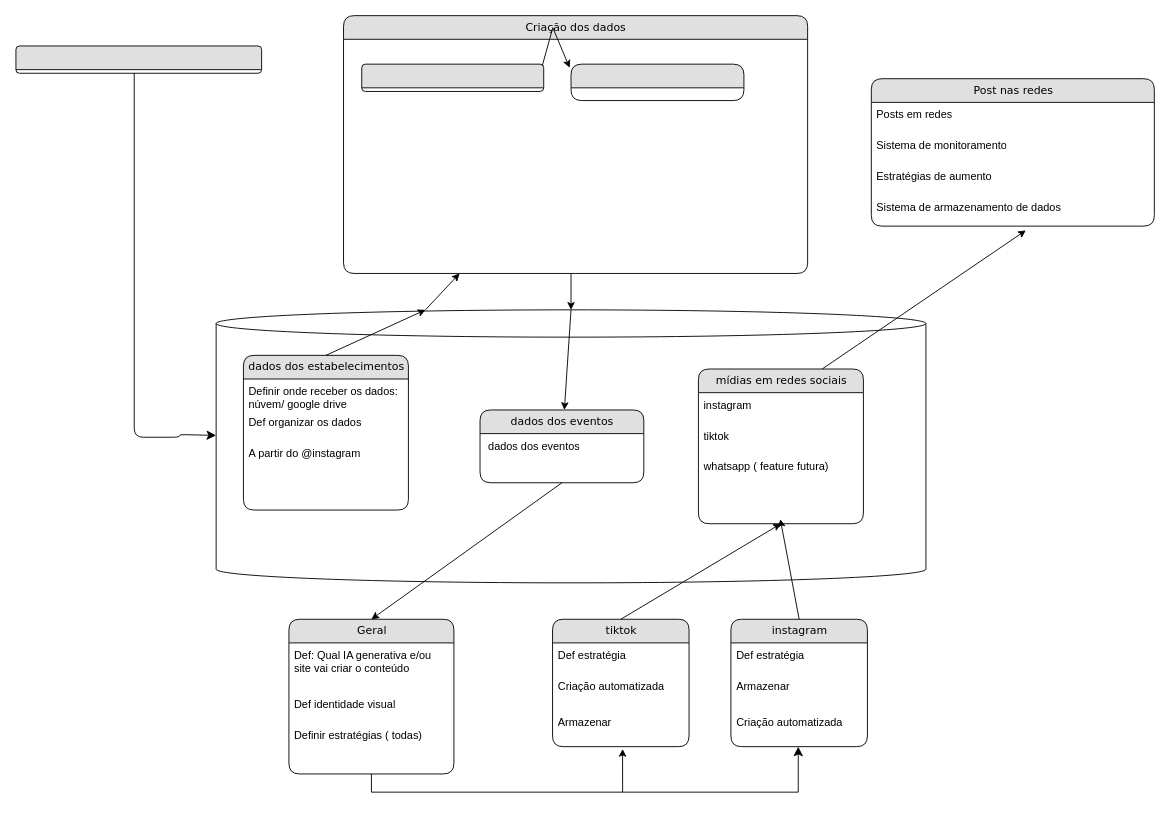
Image size: 1170x818. Some labels were removed from this diagram. Each missing label, with the centre of its shape:
Atualização do banco de dados: the point at 138,59
Scraping via @instaloader: the point at 452,77
Tratamento das infos das fotos via @..: the point at 657,82
